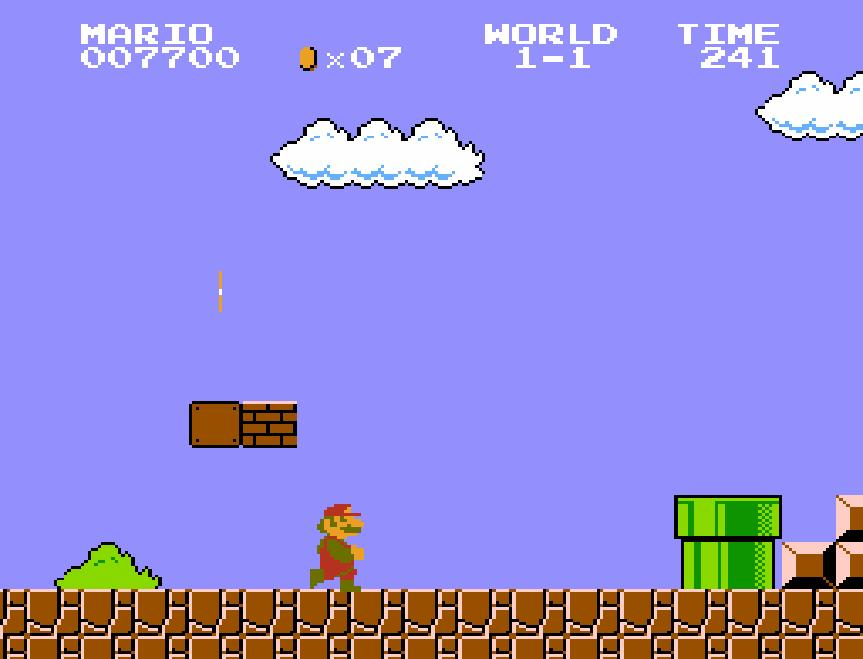big_mario: (308, 496, 366, 594)
